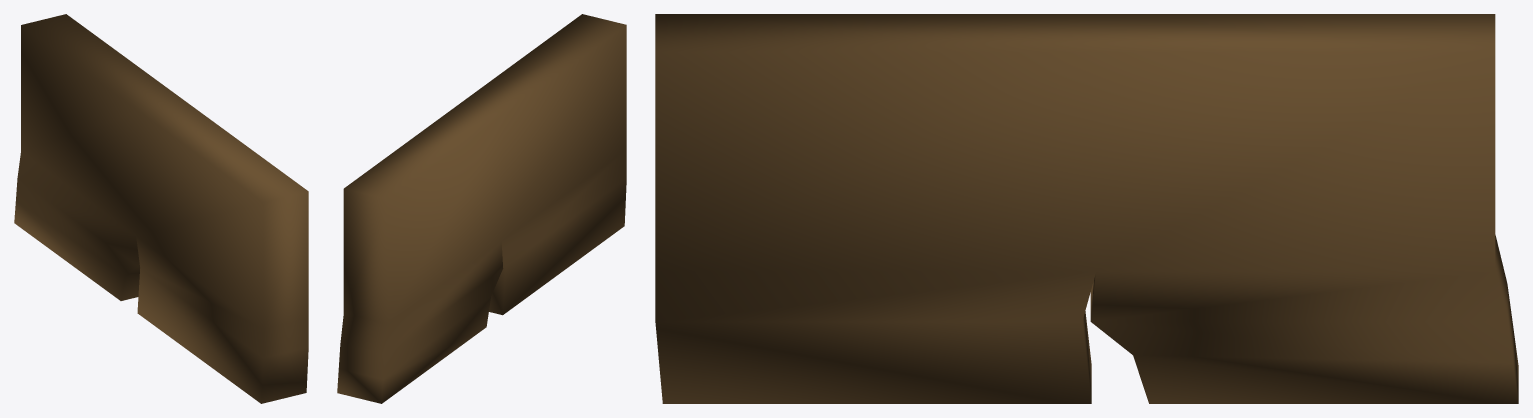
The model's file is breach.fbx.
The picture shows the model from 3 angles, left to right: view 1: azimuth 30°, elevation 25°; view 2: azimuth 150°, elevation 25°; view 3: azimuth 270°, elevation 25°; orthographic projection. The views are drawn at different scales.
Parts seen in each view (by area): view 1: Breach; view 2: Breach; view 3: Breach.
Boxes of the visible parts, bbox=[...] form: Breach: bbox=[14, 14, 308, 403]; Breach: bbox=[337, 14, 626, 403]; Breach: bbox=[655, 14, 1518, 403].
Bounding box in the file's own units: 200 × 857 × 1906.
